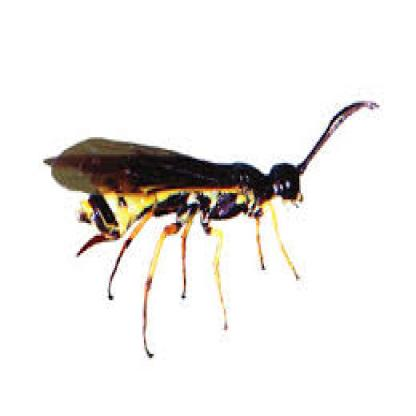sawfly: (44, 97, 381, 362)
